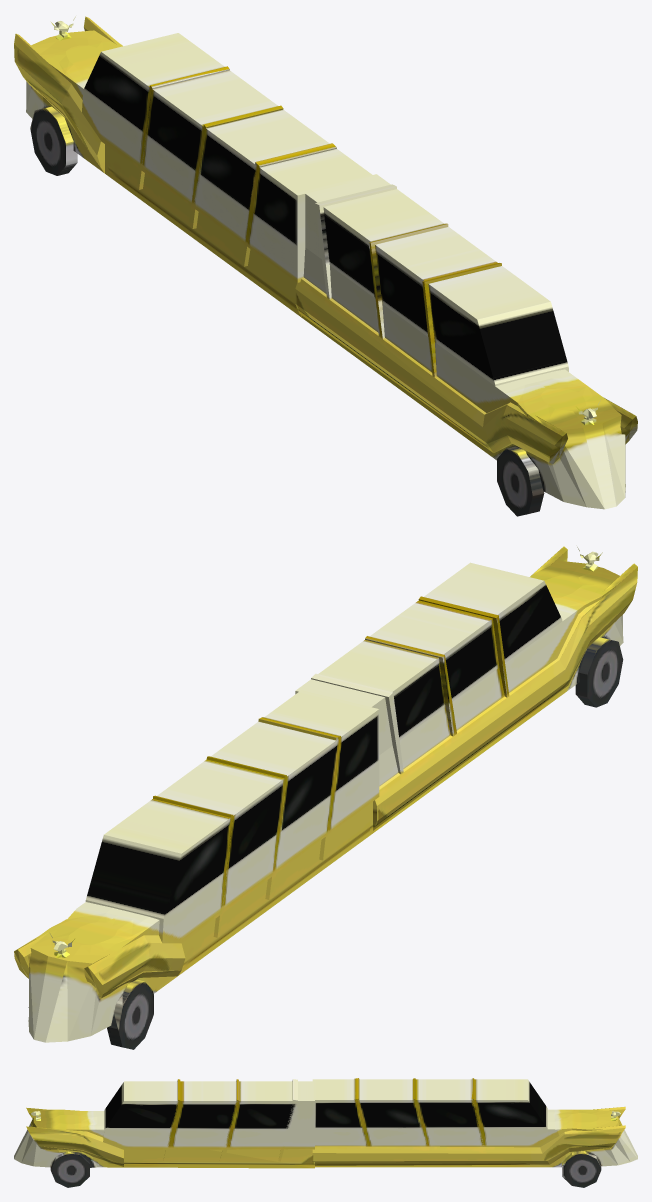
The model's file is NannLimo.glb.
3 views of the same model, one above another, from view 1: azimuth 30°, elevation 25°; view 2: azimuth 150°, elevation 25°; view 3: azimuth 270°, elevation 25° (orthographic). The views are drawn at different scales.
Parts seen in each view (by area): view 1: NannLimo; view 2: NannLimo; view 3: NannLimo.
Part boxes in pixels (bbox=[...]): NannLimo: bbox=[14, 16, 637, 516]; NannLimo: bbox=[14, 546, 637, 1049]; NannLimo: bbox=[14, 1078, 637, 1187].
Bounding box in the file's own units: 95.86 × 164 × 1063.
1 material, 1 textured.
